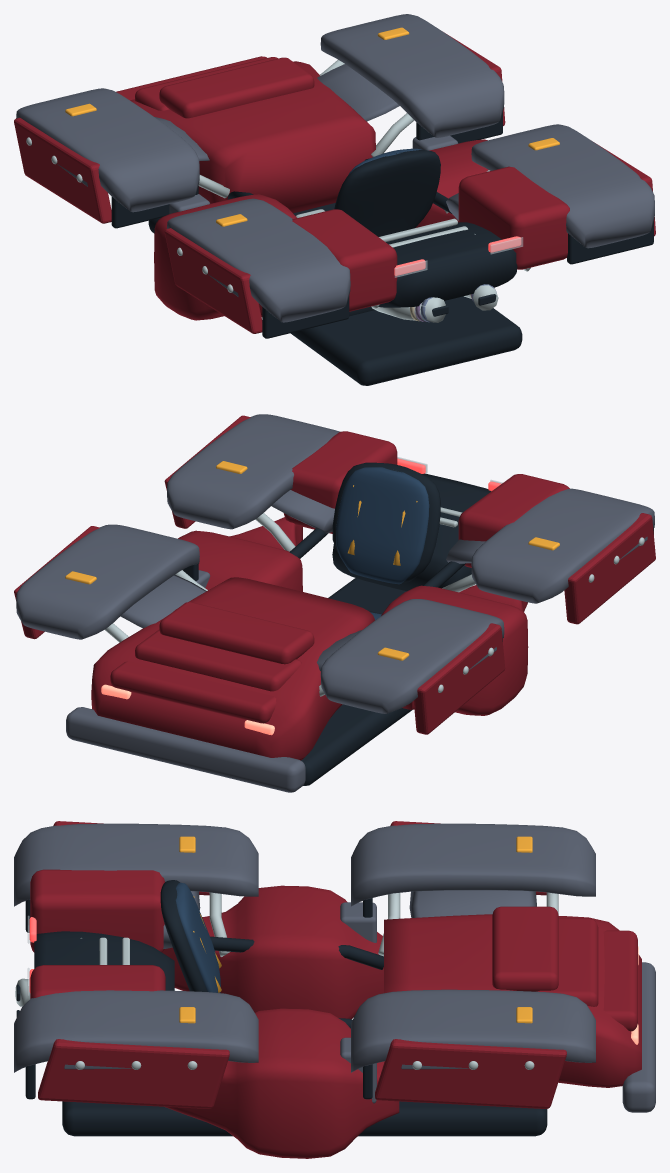
File: koloss.glb
The picture shows the model from 3 angles, top to bottom: view 1: azimuth 30°, elevation 25°; view 2: azimuth 150°, elevation 25°; view 3: azimuth 270°, elevation 25°; orthographic projection. The views are drawn at different scales.
Visible parts, largest first — view 1: LOD0, ShowroomDetail; view 2: LOD0; view 3: LOD0.
Part boxes in pixels (bbox=[...]): LOD0: bbox=[14, 14, 655, 385]; ShowroomDetail: bbox=[394, 237, 523, 322]; LOD0: bbox=[14, 414, 655, 792]; LOD0: bbox=[14, 821, 655, 1158].
Size of what is drawn, in the model's own units: 2.1 by 0.868 by 2.51.
